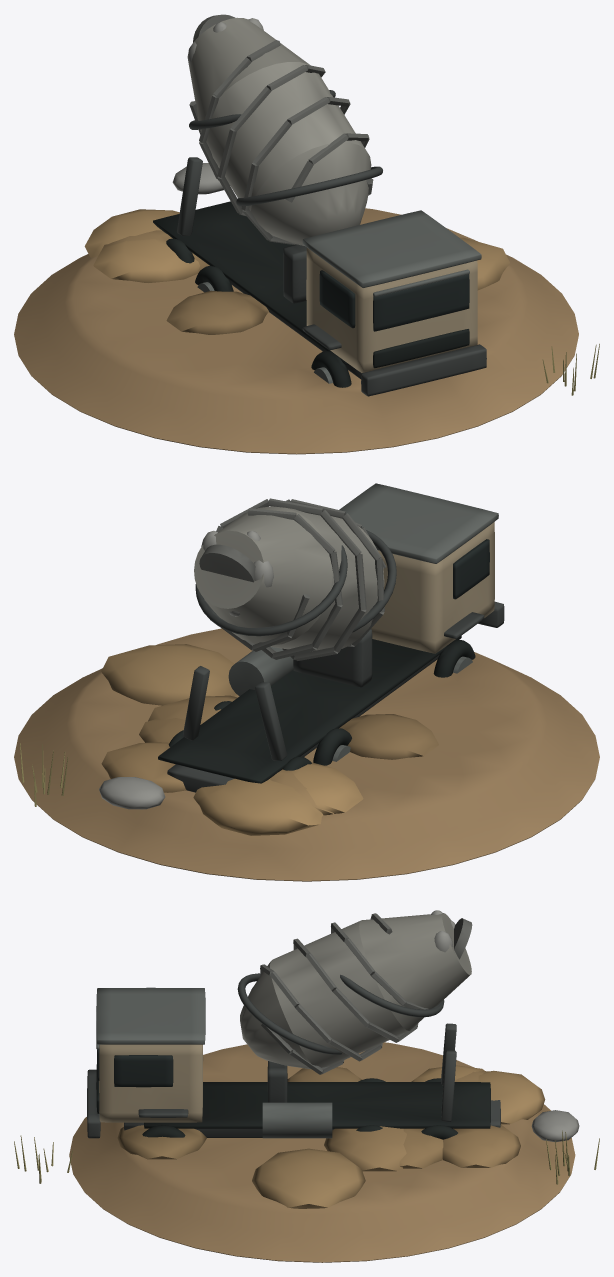
The model's file is mixer_wreck_c.glb.
3 renders of one model, top to bottom at view 1: azimuth 30°, elevation 25°; view 2: azimuth 150°, elevation 25°; view 3: azimuth 270°, elevation 25°, orthographic. The views are drawn at different scales.
Parts seen in each view (by area): view 1: Surface; view 2: Surface; view 3: Surface.
Boxes of the visible parts, x1,y1,x2,y2 form: Surface: (14, 14, 599, 454); Surface: (14, 483, 599, 881); Surface: (14, 910, 599, 1262).
Bounding box in the file's own units: 15.3 × 8.03 × 17.71.
